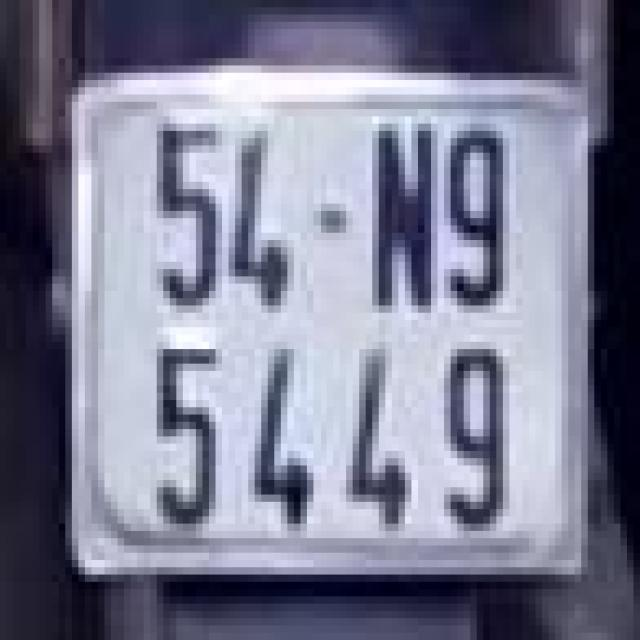4: (235, 338, 327, 535), (225, 106, 297, 316), (340, 342, 418, 531)
5: (144, 109, 228, 313), (144, 335, 228, 538)
9: (441, 334, 519, 531), (444, 109, 516, 313)
N: (362, 113, 441, 316)
